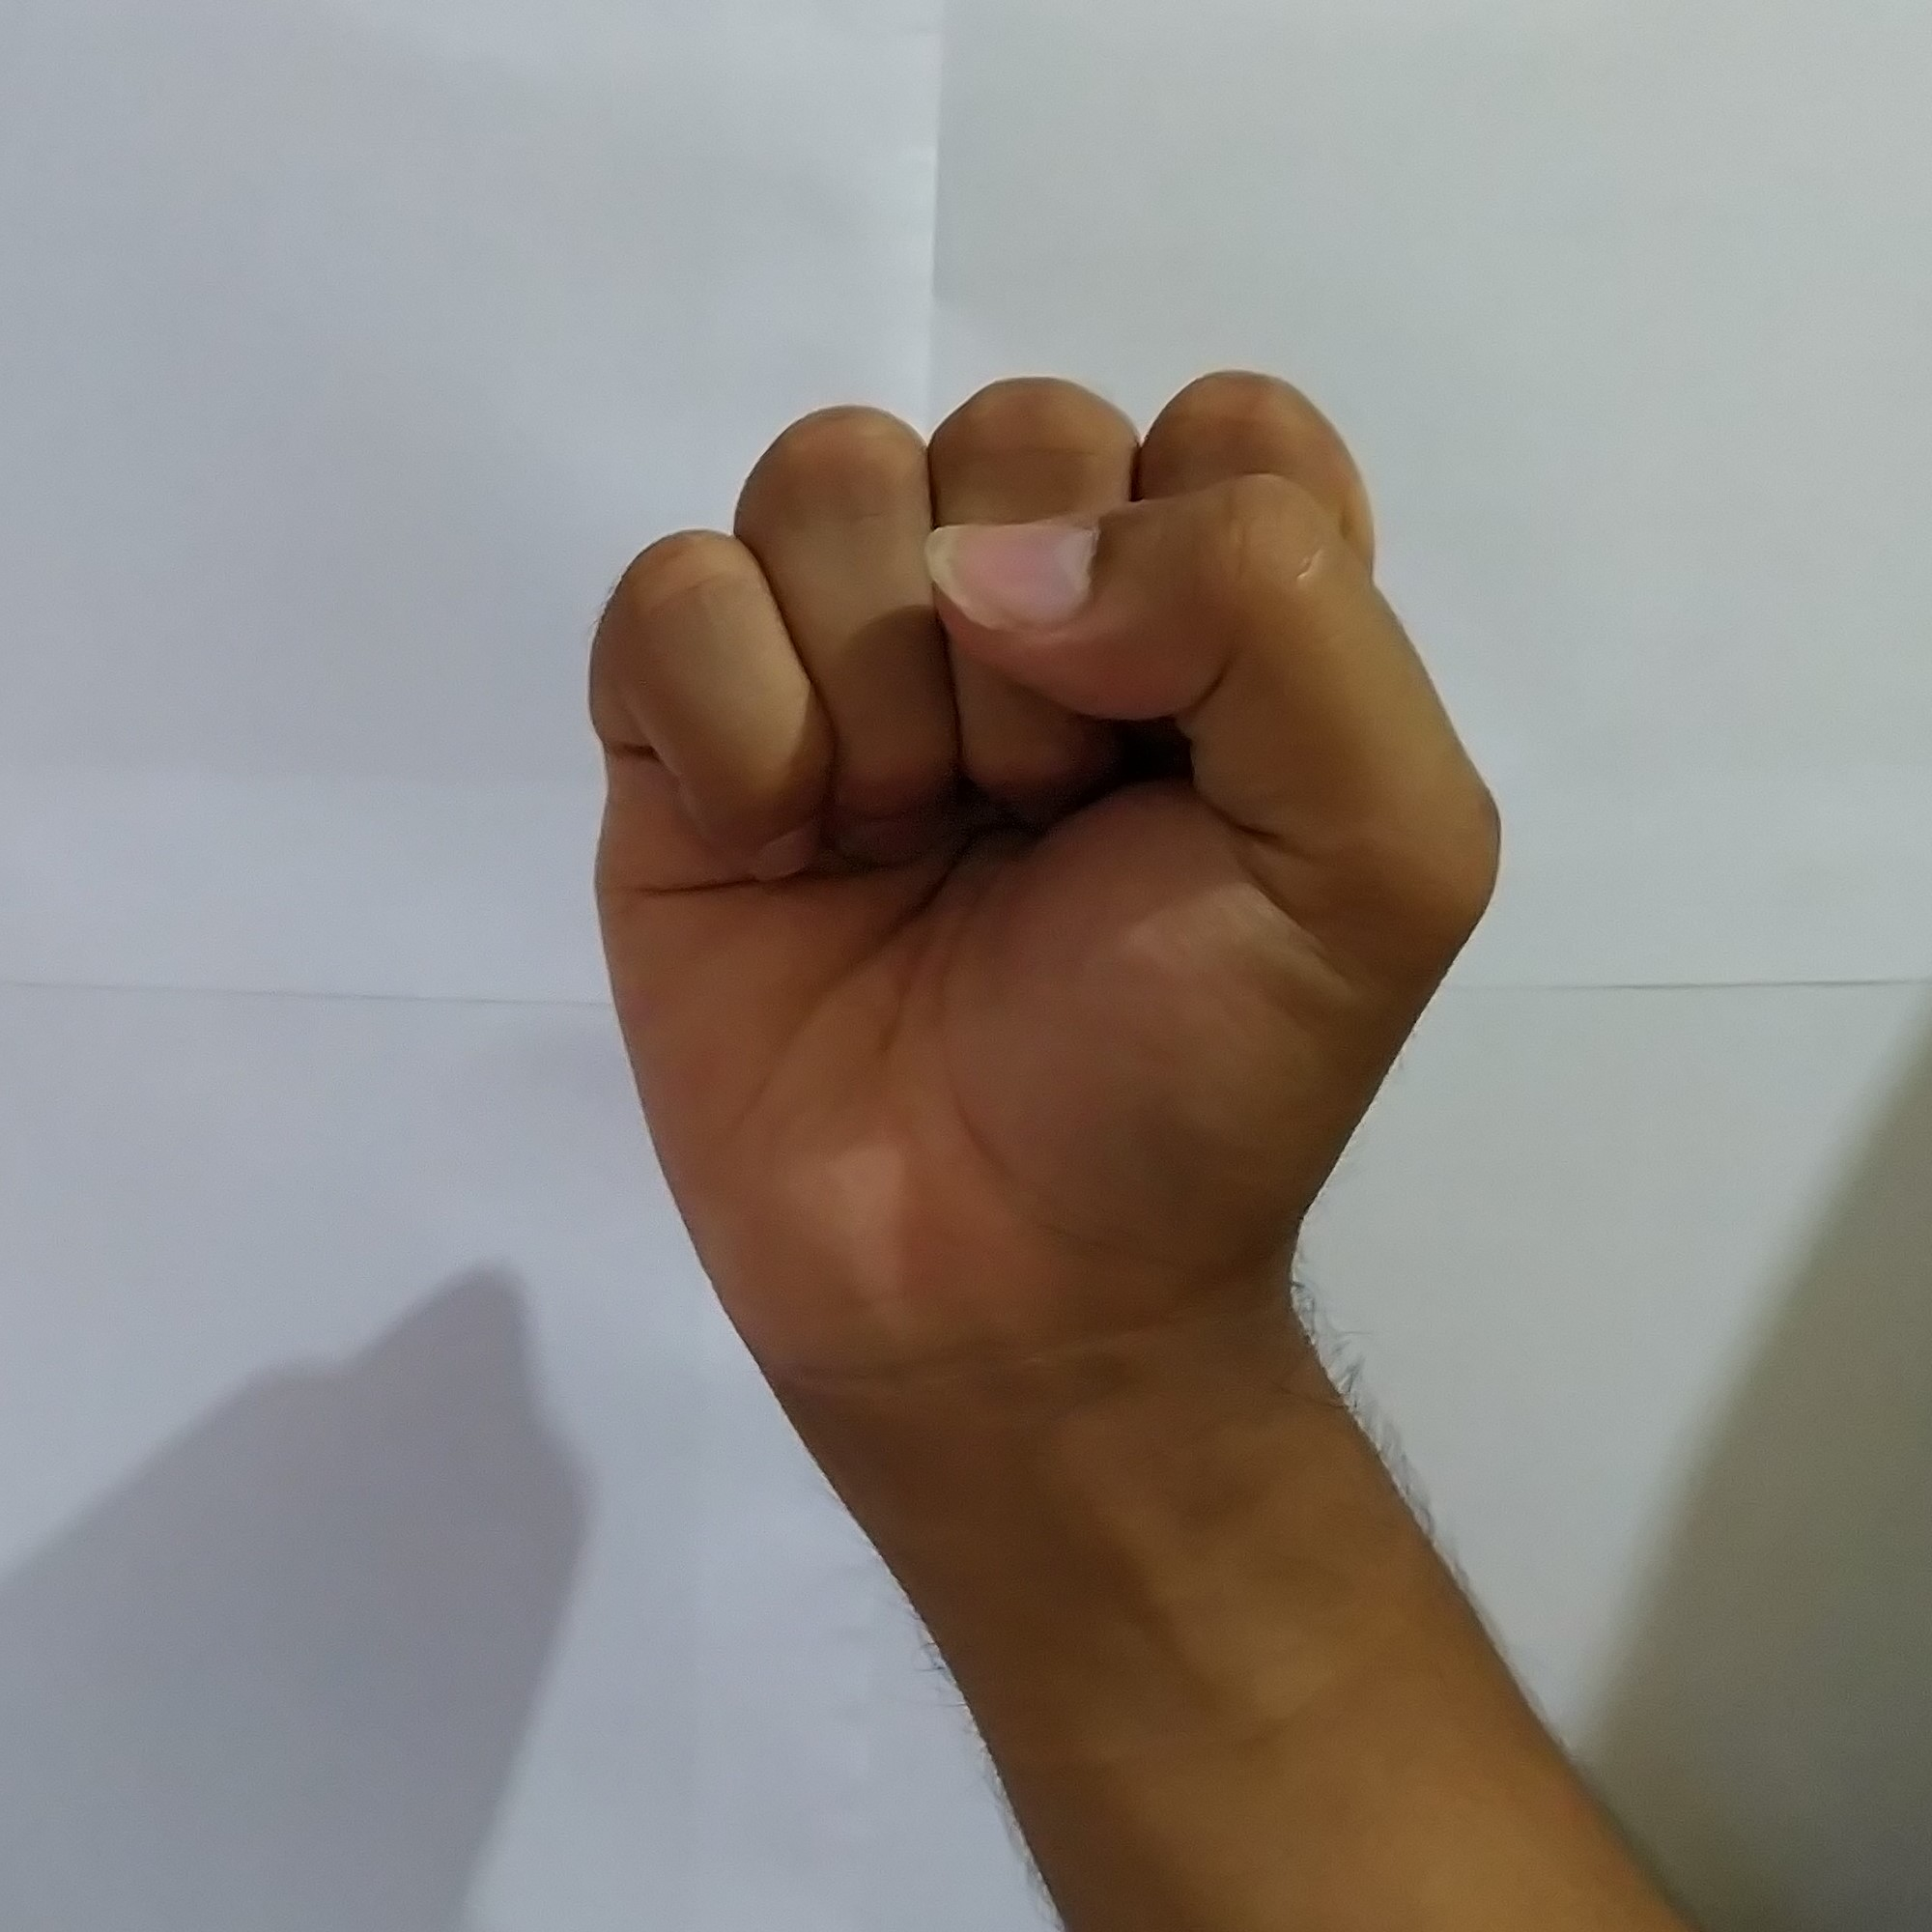S: (552, 340, 1527, 1348)
